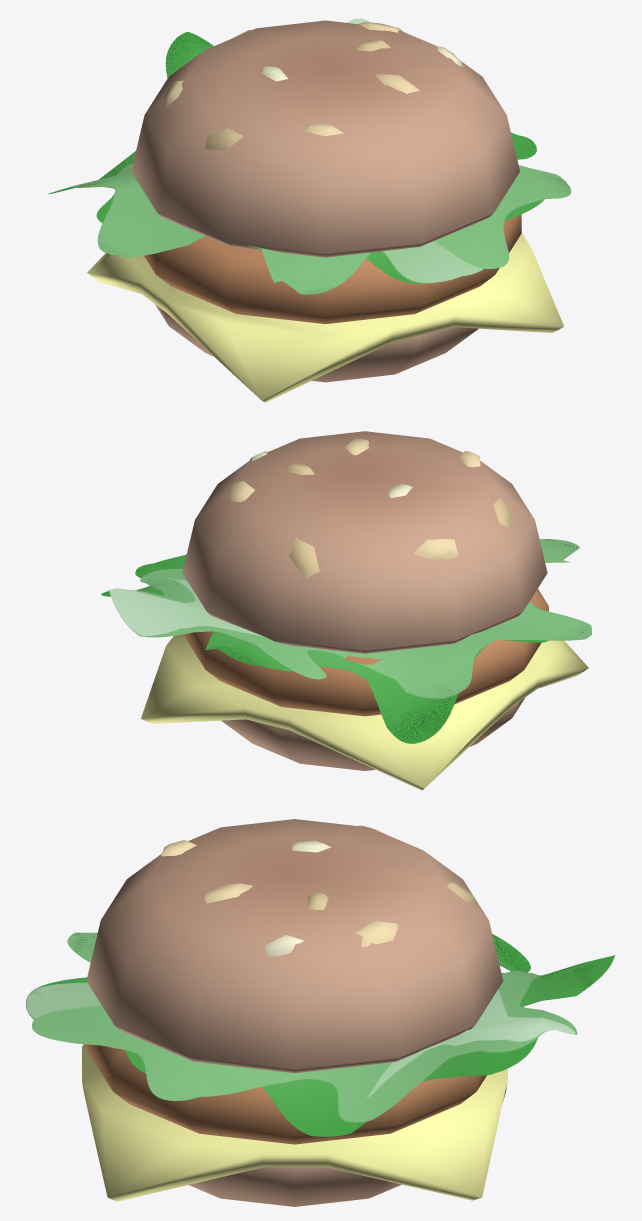
File: hamburguer.fbx
The picture shows the model from 3 angles, top to bottom: view 1: azimuth 30°, elevation 25°; view 2: azimuth 150°, elevation 25°; view 3: azimuth 270°, elevation 25°; orthographic projection. The views are drawn at different scales.
Parts seen in each view (by area): view 1: top bread, cheese, lettuce, meat, bottom bread; view 2: top bread, lettuce, cheese, meat, bottom bread; view 3: top bread, lettuce, cheese, meat, bottom bread.
Part boxes in pixels (box(x1,y1,x2,y2)): top bread: box(131, 20, 519, 257); cheese: box(87, 232, 564, 402); lettuce: box(48, 18, 571, 294); meat: box(144, 214, 521, 324); bottom bread: box(155, 304, 478, 382); top bread: box(182, 431, 547, 653); lettuce: box(101, 539, 591, 743); cheese: box(141, 634, 588, 790); meat: box(183, 589, 548, 716); bottom bread: box(221, 698, 524, 770); top bread: box(86, 819, 503, 1073); lettuce: box(26, 932, 615, 1136); cheese: box(82, 1044, 507, 1201); meat: box(84, 1044, 486, 1144); bottom bread: box(189, 1167, 401, 1206).
Bounding box in the file's own units: 0.2551 × 0.1397 × 0.2684.
